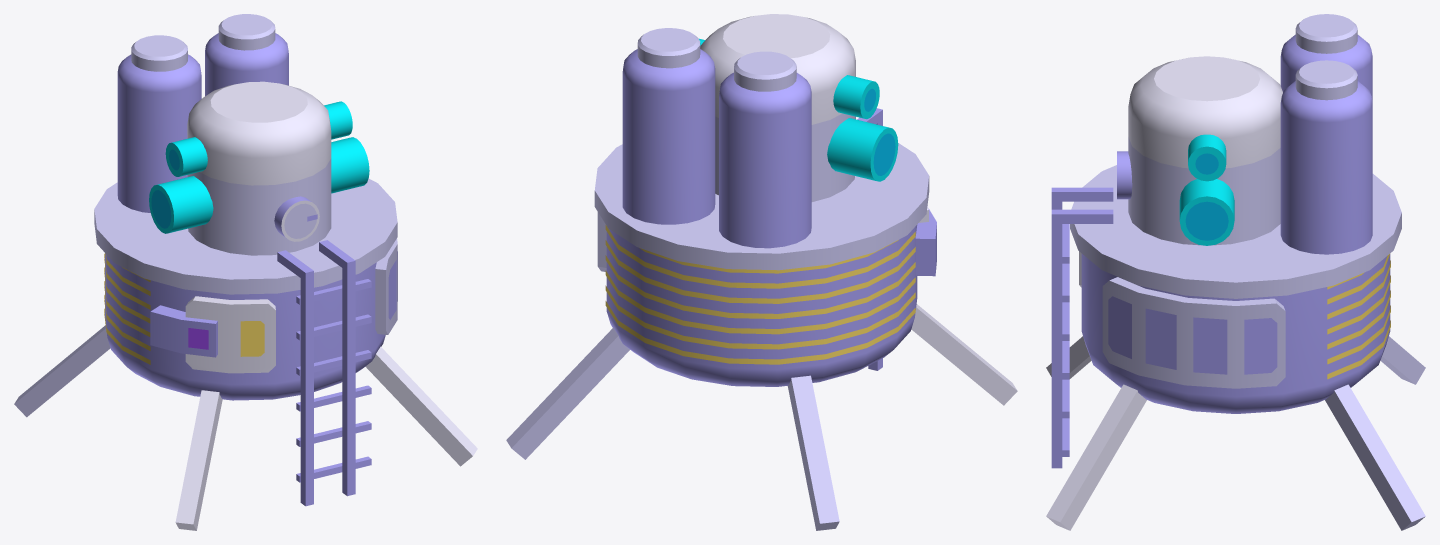
The model's file is Building_018.fbx.
The picture shows the model from 3 angles, left to right: view 1: azimuth 30°, elevation 25°; view 2: azimuth 150°, elevation 25°; view 3: azimuth 270°, elevation 25°; orthographic projection. The views are drawn at different scales.
Visible parts, largest first — view 1: Building_018; view 2: Building_018; view 3: Building_018.
Part boxes in pixels (bbox=[...]): Building_018: bbox=[14, 14, 477, 530]; Building_018: bbox=[506, 14, 1017, 530]; Building_018: bbox=[1046, 14, 1425, 530].
Bounding box in the file's own units: 8.55 × 10.07 × 8.55.
